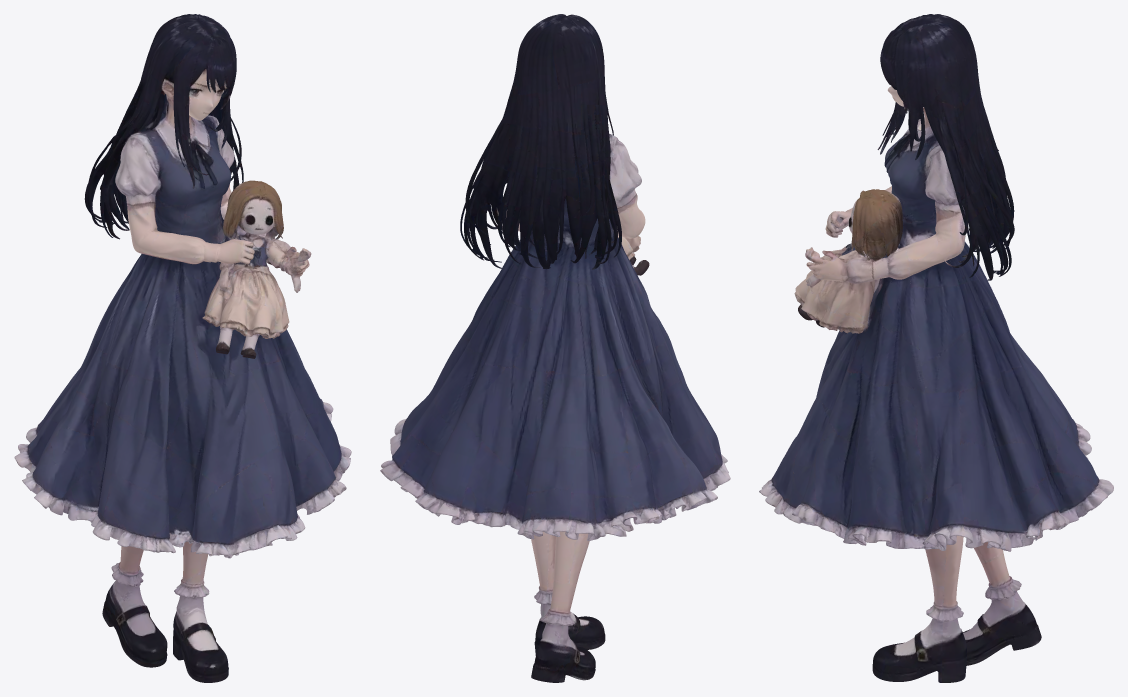
The model's file is malyamodel.glb.
3 renders of one model, left to right at view 1: azimuth 30°, elevation 25°; view 2: azimuth 150°, elevation 25°; view 3: azimuth 270°, elevation 25°, orthographic. The views are drawn at different scales.
Visible parts, largest first — view 1: mesh_node; view 2: mesh_node; view 3: mesh_node.
Part boxes in pixels (<box>): mesh_node: <box>14,14,351,682</box>; mesh_node: <box>380,14,730,682</box>; mesh_node: <box>759,14,1113,682</box>.
Size of the model in its own units: 0.9474 by 1.9 by 0.9273.
Materials: 1 (1 with a texture image).
